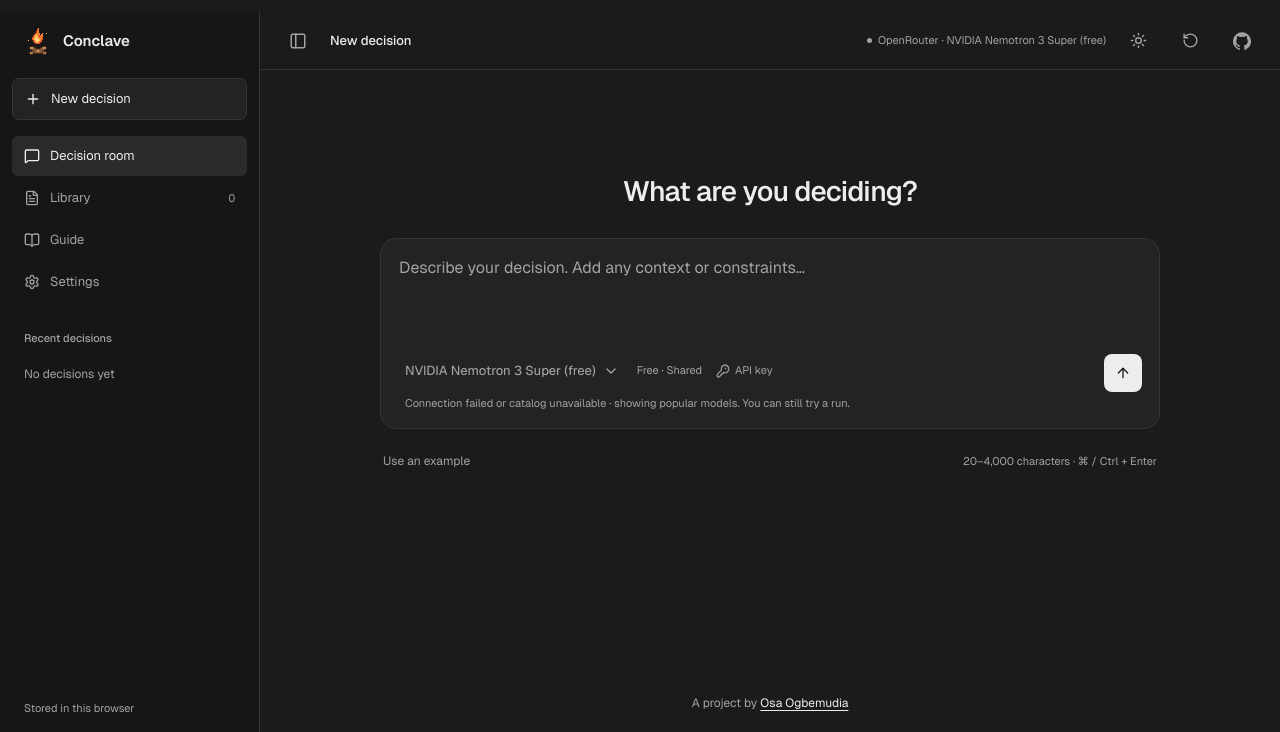
decision room › guards against context-free runs
Click the button named "convene council" at coordinates (1123, 373), box x1=1103 y1=353 x2=1143 y2=393
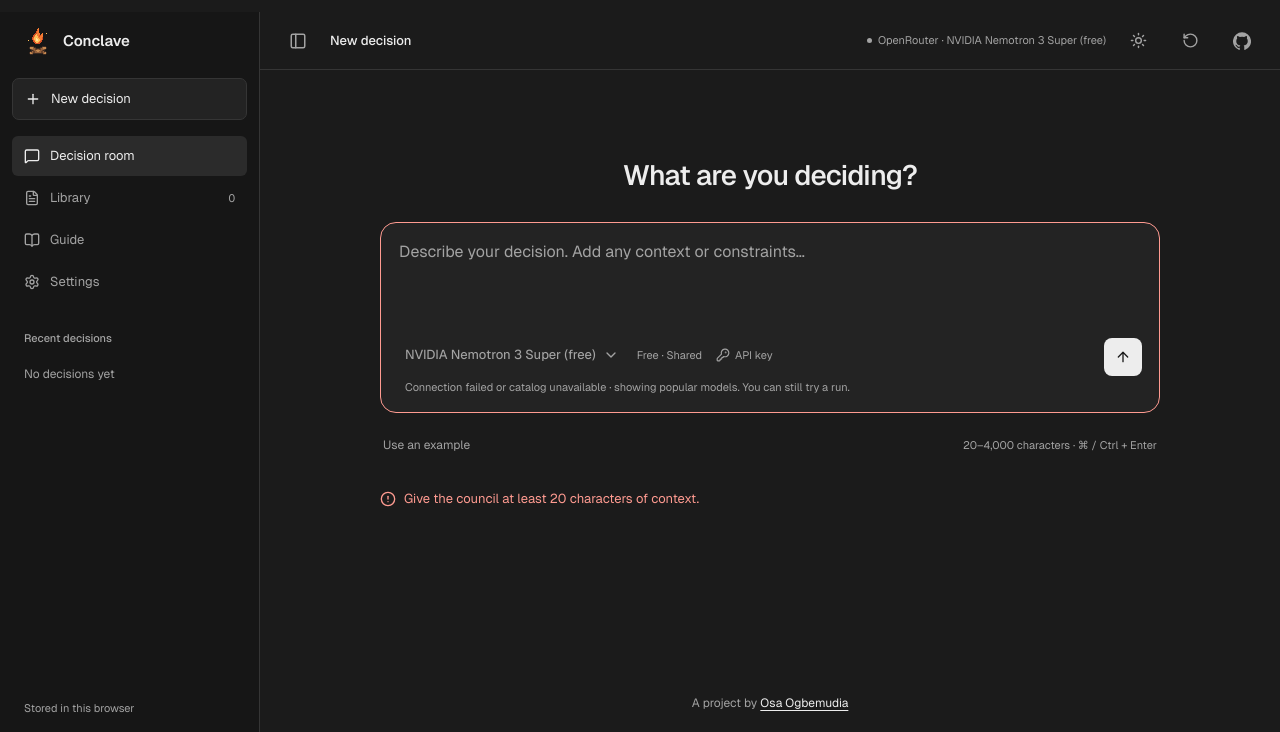
Expected: the message "Give the council at least 20 characters of context." is shown, x1=380 y1=490 x2=699 y2=507
